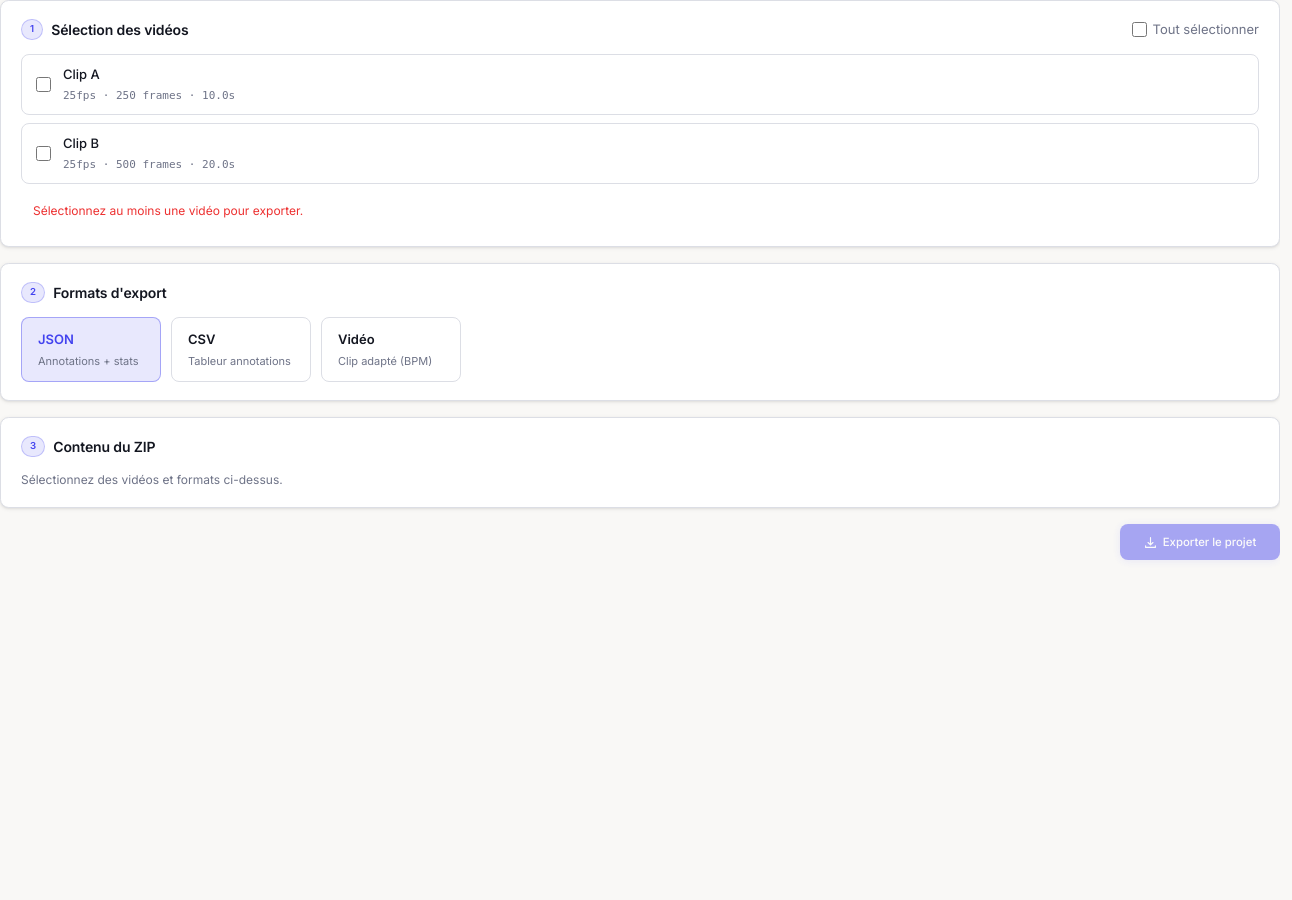
Test: ExportPage › shows BPM column header when video format is selected
What coordinates should you click on to do the following:
click the checkbox labelled "Vidéo Clip adapté (BPM)"
I would click on:
 (391, 350)
Its box is [321, 317, 461, 382].
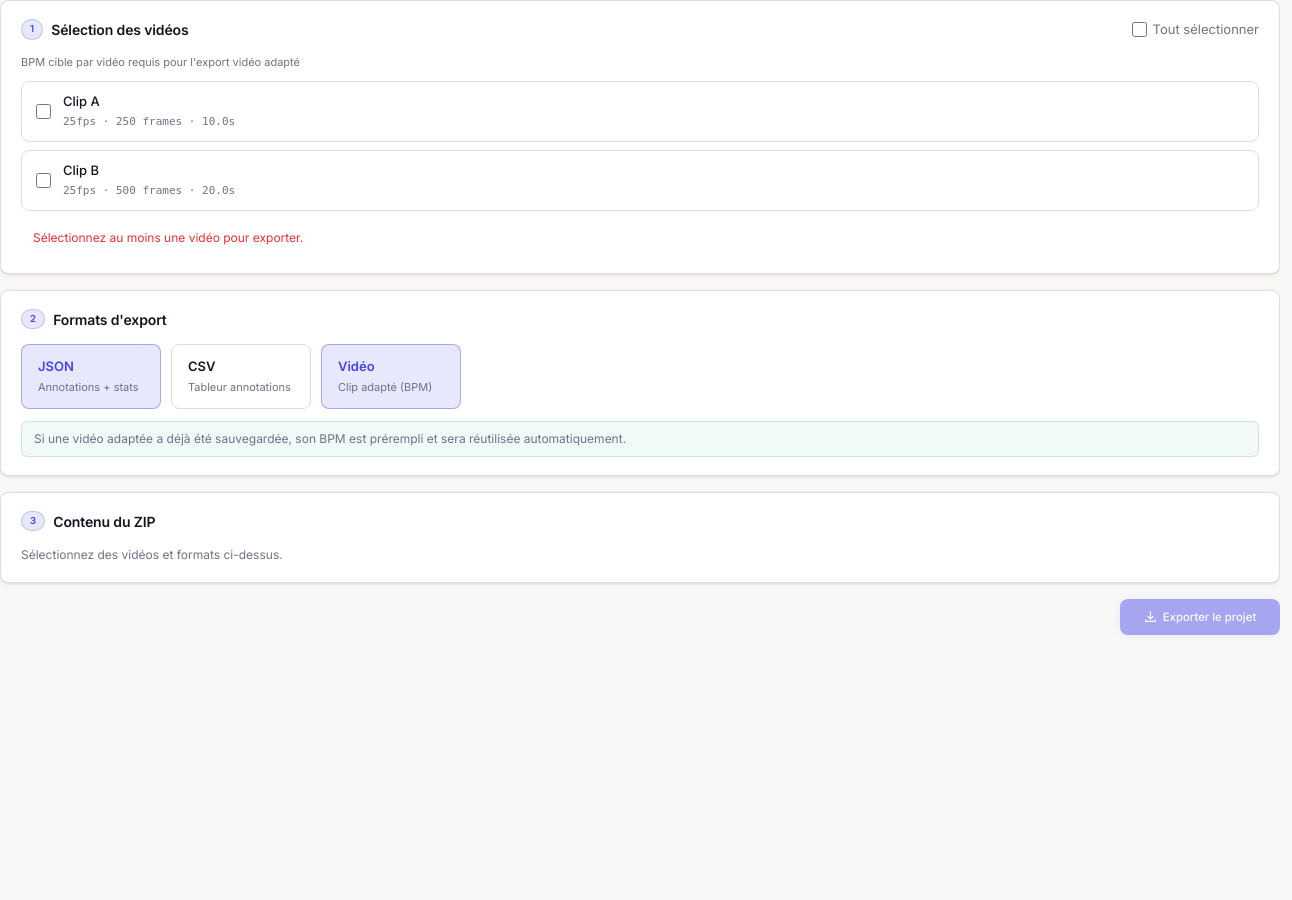
expect the text "BPM cible par vidéo requis pour l'export vidéo adapté" is shown: met, box [21, 55, 300, 69]
